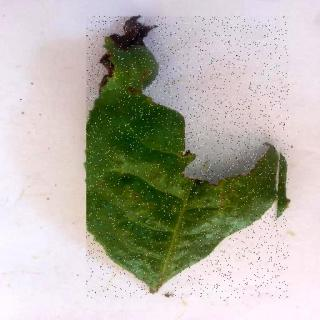Brown Blight: (88, 17, 290, 299)
